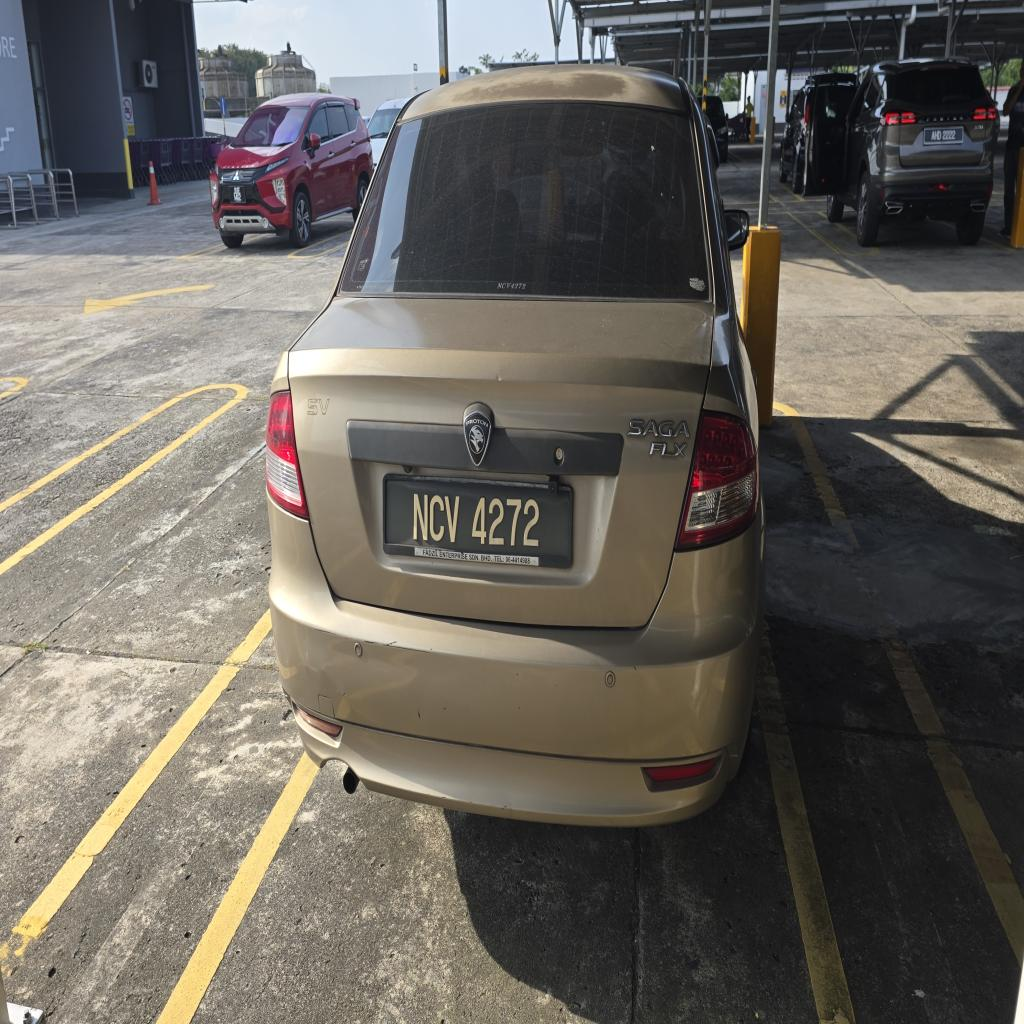car: (266, 66, 764, 825)
car plate: (384, 475, 572, 567)
